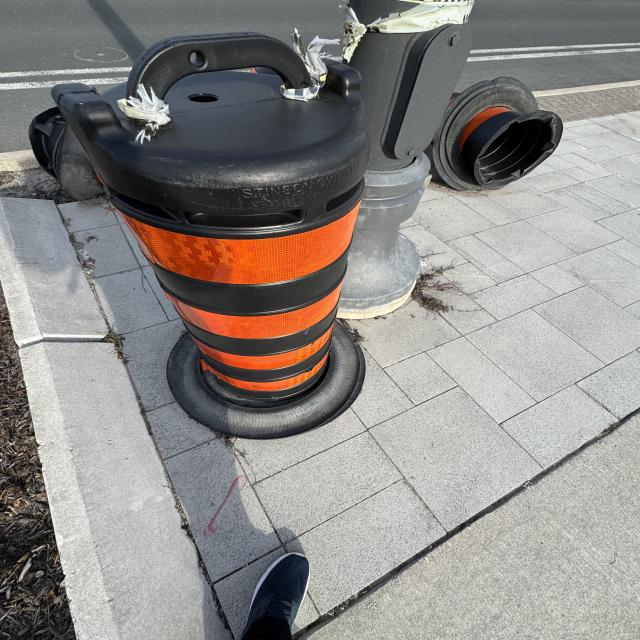Teraffic Barrel: (52, 33, 370, 438), (427, 77, 562, 190)
